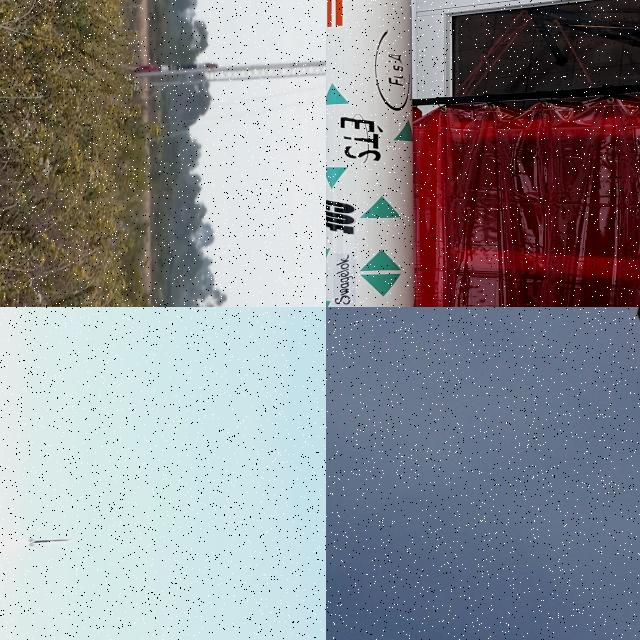Rocket: (326, 0, 415, 307), (134, 62, 219, 74), (29, 538, 73, 547)
